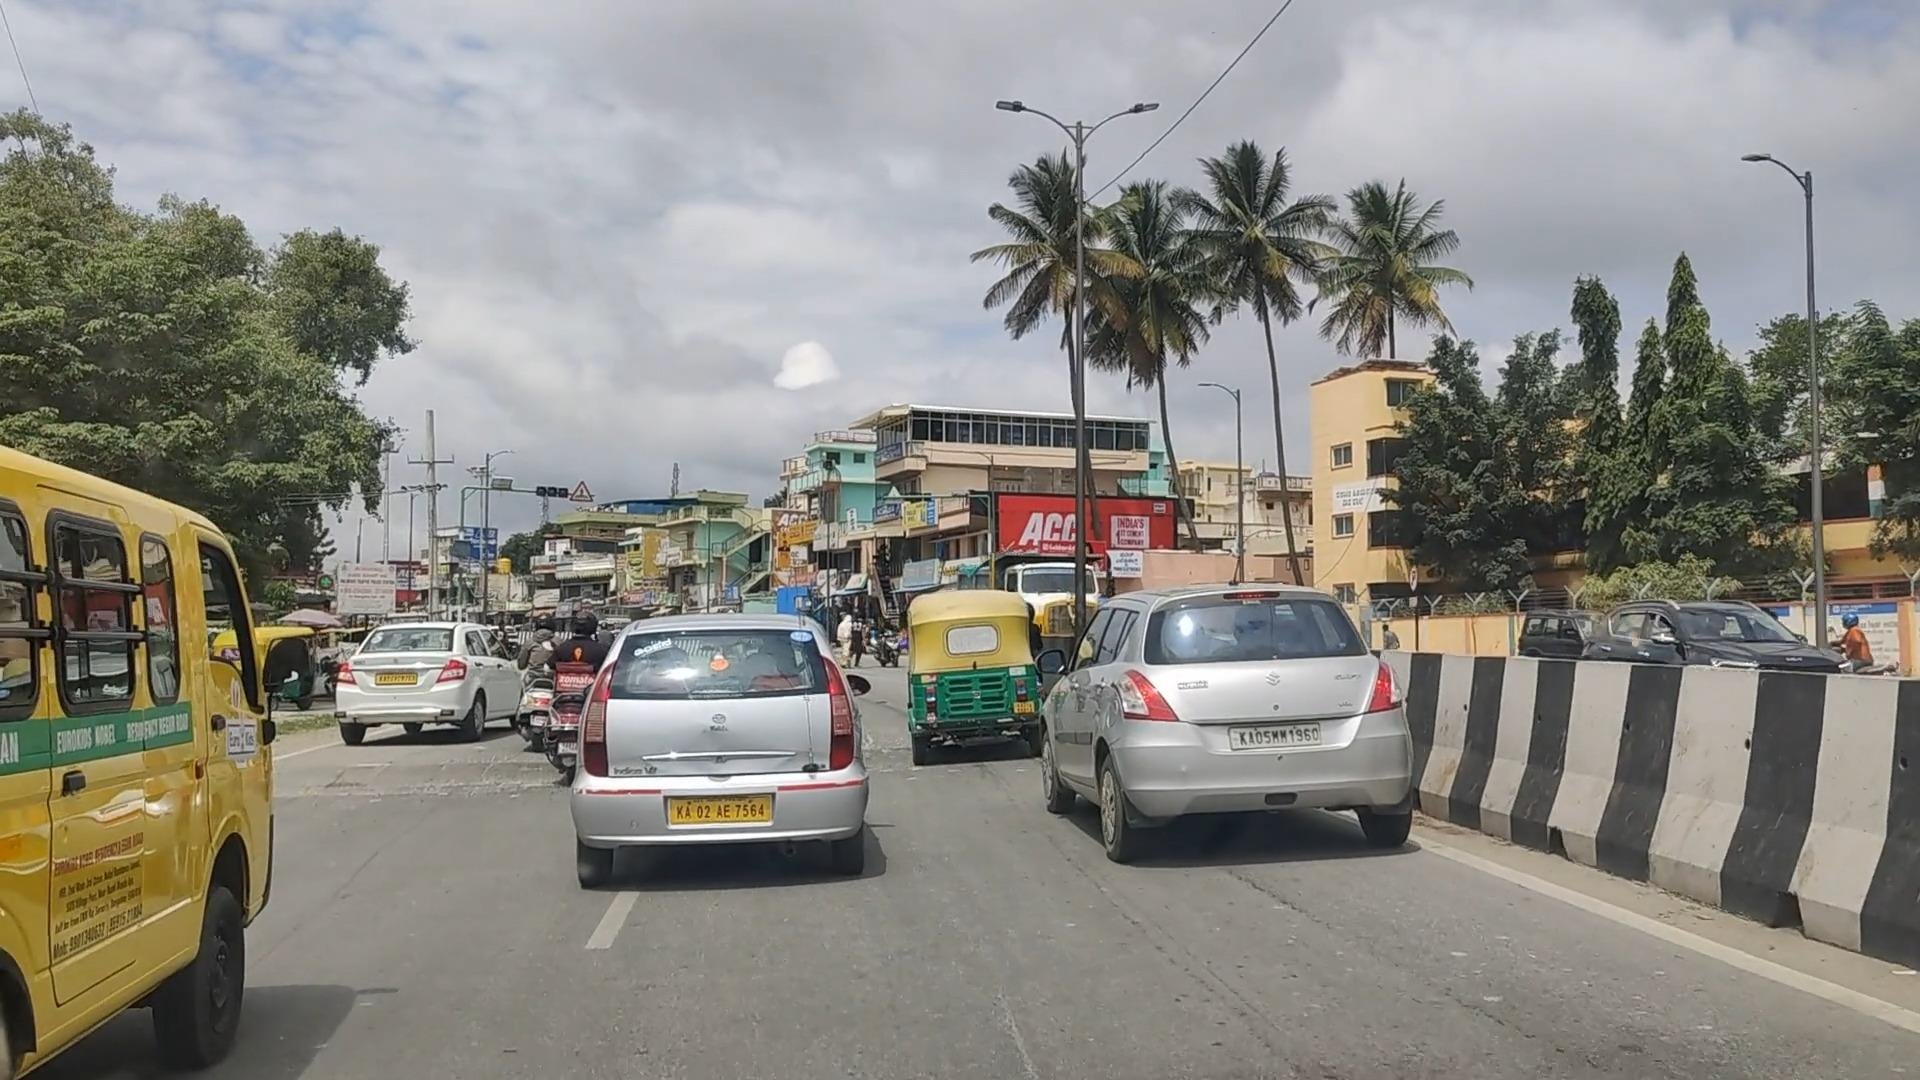LMV: (0, 438, 413, 1080), (1030, 578, 1428, 893), (580, 611, 866, 890), (335, 595, 529, 765), (881, 583, 1031, 762)
